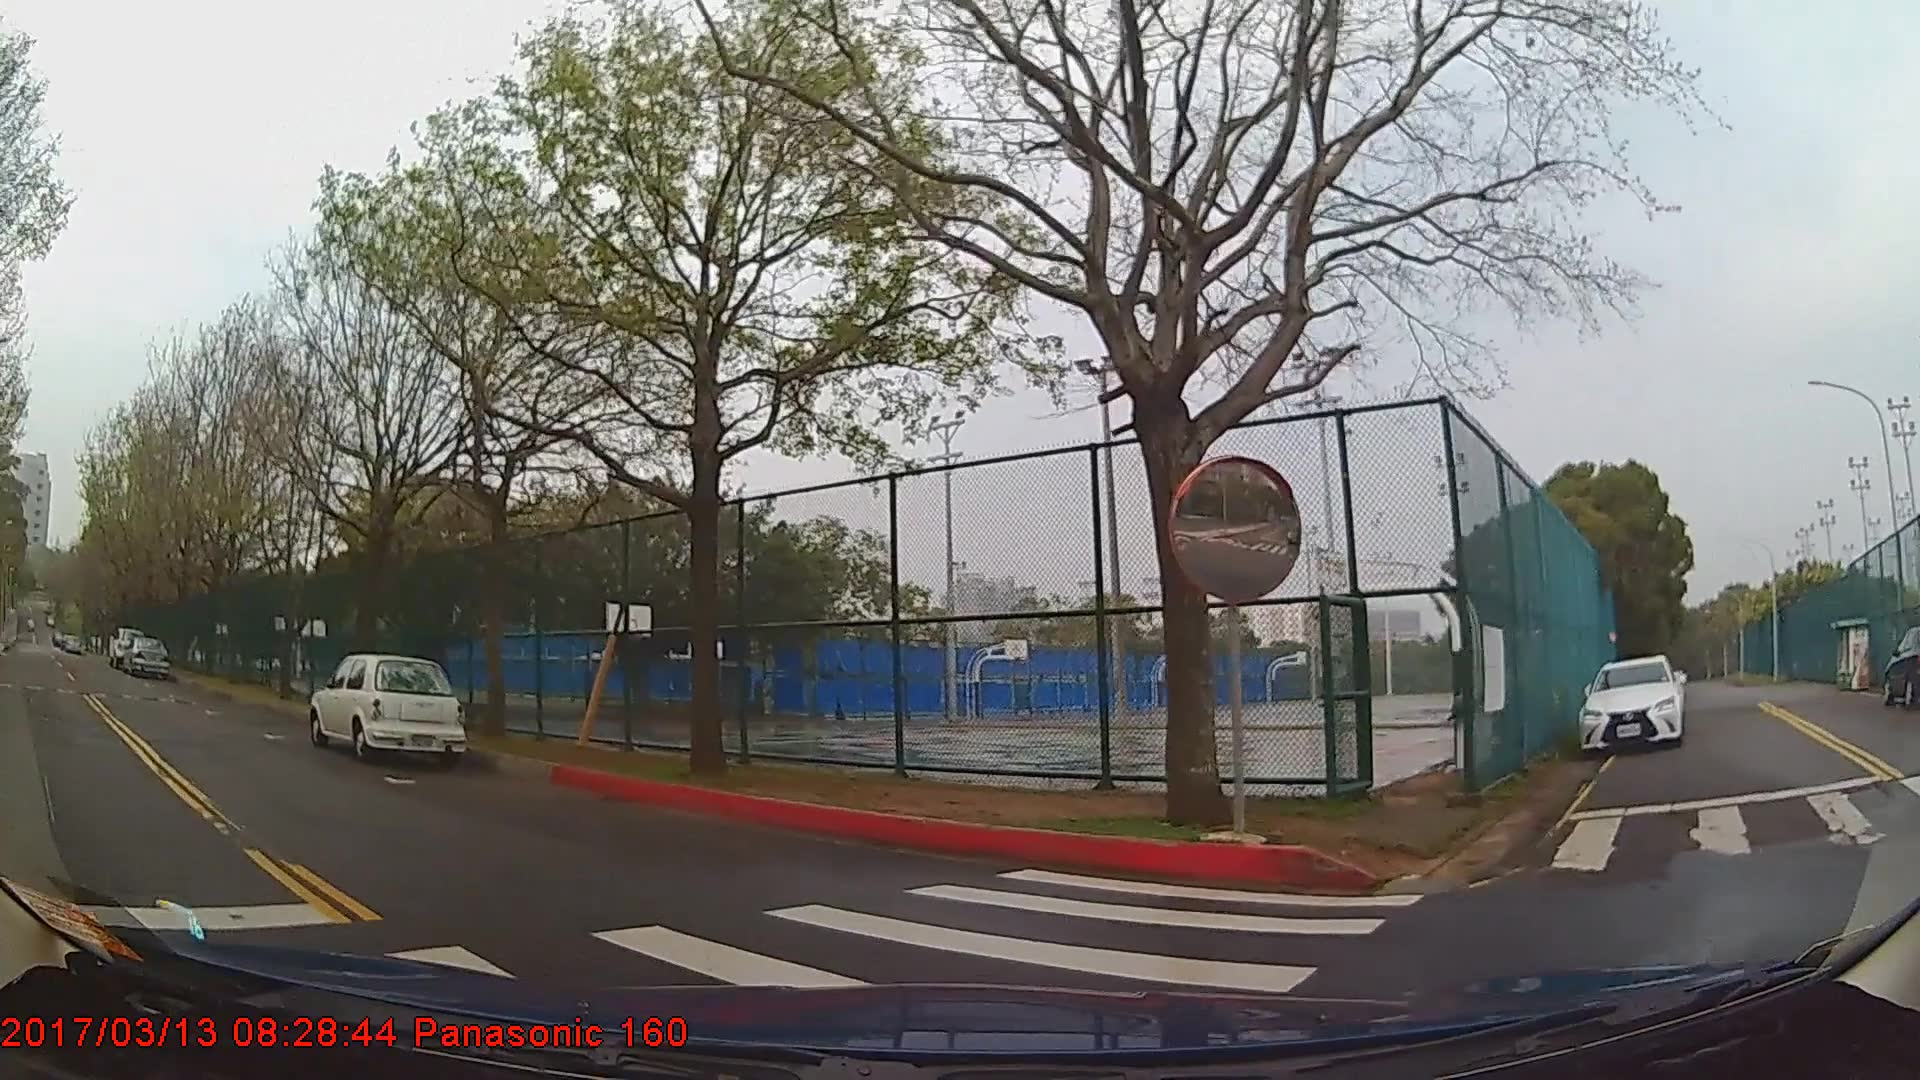vehicle: (310, 651, 467, 757), (1578, 655, 1687, 753), (120, 633, 171, 676)
